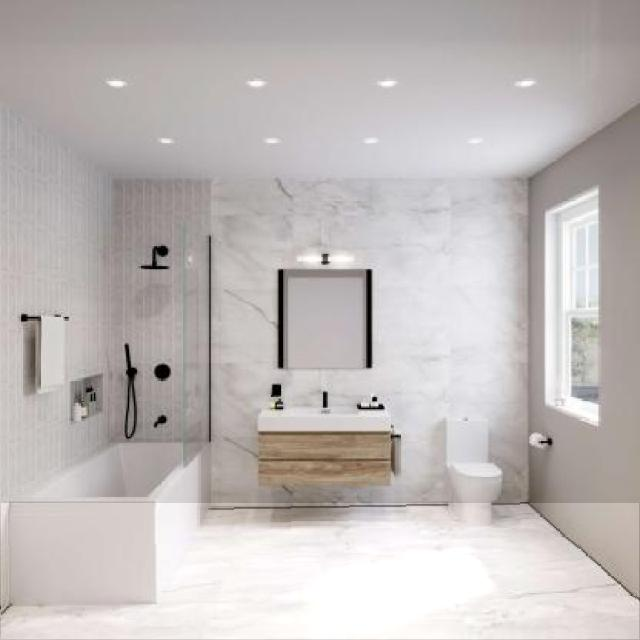floor: (2, 504, 640, 640)
